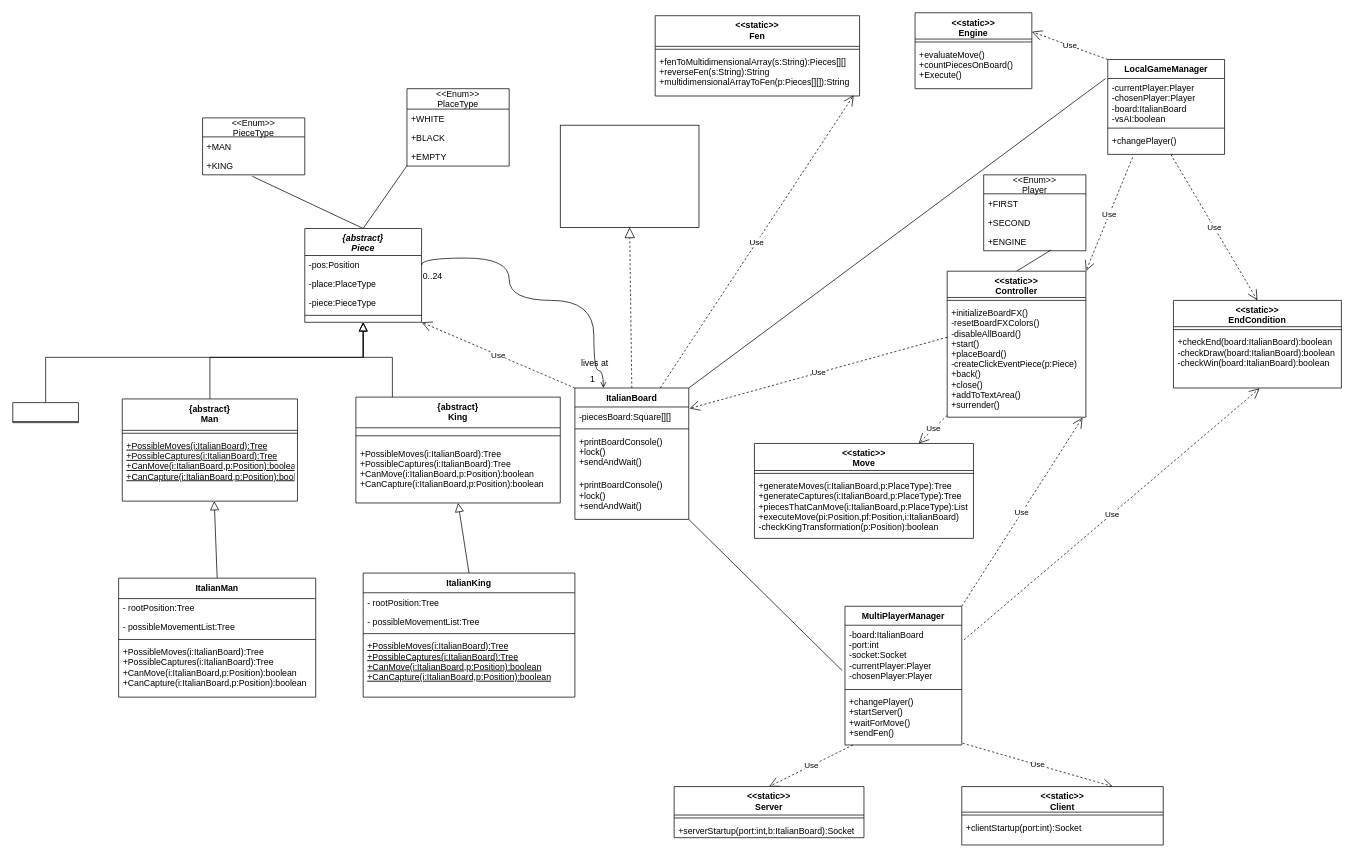
Some shapes in this 1354 by 860 pixel diagram are drawn without their labels. Here are the shapes that lost their labels. From the top down, the centre of each, then its label:
At point (629, 175): "<<Interface>> Board -DIMENSION_BOARD=8 +printBoardConsole +getBoard:Pieces[][]".
At point (45, 412): "Empty".
